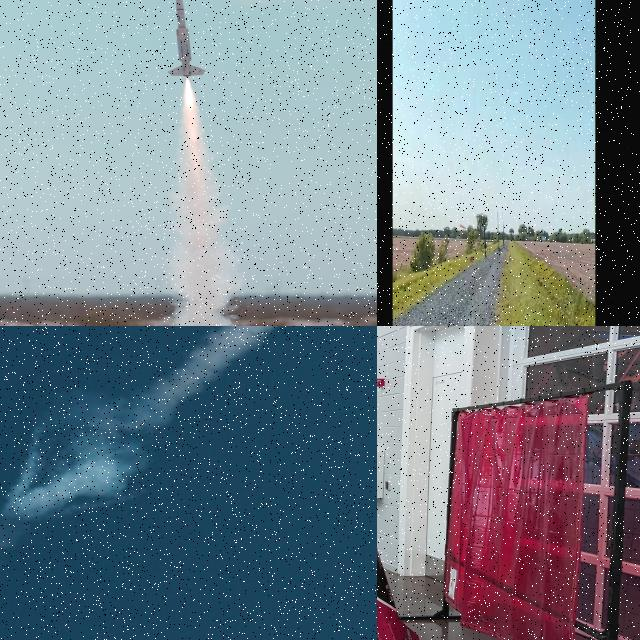Rocket: (166, 0, 208, 77), (483, 225, 487, 250)
